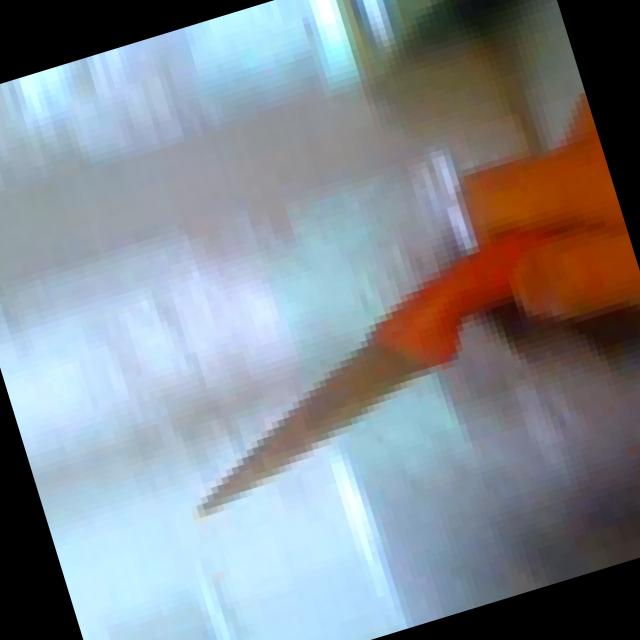knife: (106, 192, 587, 532)
